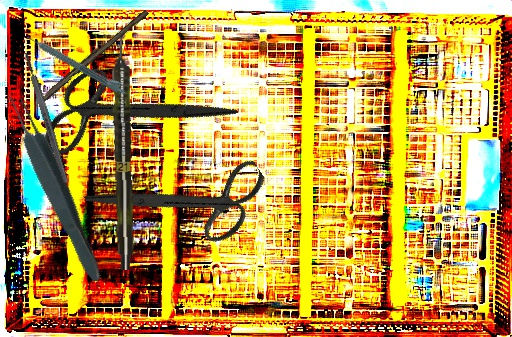Handpiece: (25, 29, 129, 97), (110, 32, 137, 271)
Iris Scissors: (24, 13, 239, 212), (82, 107, 282, 292)
Scalpel Handle: (36, 6, 150, 106), (22, 51, 70, 185)
Tissue Forceps: (0, 85, 111, 287)
